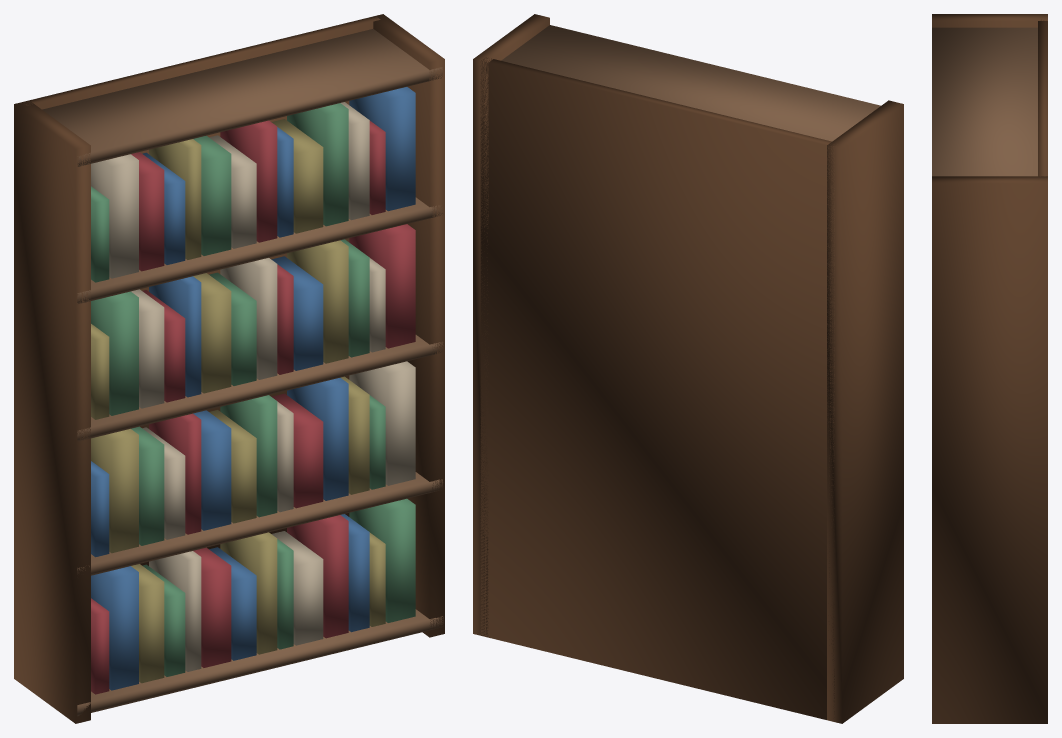
Rendered from shelf.glb.
3 renders of one model, left to right at view 1: azimuth 30°, elevation 25°; view 2: azimuth 150°, elevation 25°; view 3: azimuth 270°, elevation 25°, orthographic. The views are drawn at different scales.
Parts seen in each view (by area): view 1: side, board.004, side.001, board.002, board.003, board, board.001, back, book.013, book.027, book.041, book.055 (+52 smaller); view 2: back, side, board.004, side.001; view 3: side.001, board.004, back, side.
Boxes of the visible parts, box(x1,y1,x2,y2) form: side: box(14, 100, 90, 723); board.004: box(42, 29, 442, 166); side.001: box(369, 14, 444, 637); board.002: box(77, 335, 443, 441); board.003: box(77, 197, 442, 303); board: box(77, 609, 443, 716); board.001: box(77, 472, 442, 577); back: box(23, 16, 380, 565); book.013: box(349, 498, 415, 622); book.027: box(349, 361, 415, 485); book.041: box(349, 224, 415, 348); book.055: box(349, 87, 415, 211); back: box(480, 57, 837, 719); side: box(827, 100, 903, 723); board.004: box(501, 25, 880, 141); side.001: box(473, 14, 549, 637); side.001: box(932, 176, 1047, 723); board.004: box(932, 27, 1037, 176); back: box(1038, 20, 1047, 176); side: box(932, 14, 1047, 27).
Size of what is drawn, in the model's own units: 1.21 by 1.8 by 0.35.
